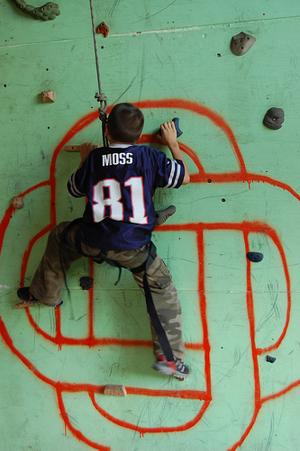person: (16, 101, 192, 385)
